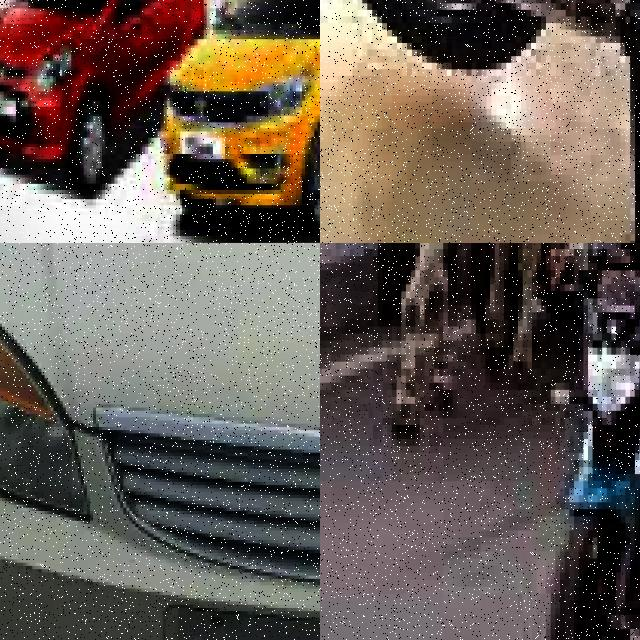bike: (320, 0, 640, 243), (551, 249, 640, 640)
car: (0, 243, 320, 640), (154, 0, 320, 217), (0, 0, 120, 205)
